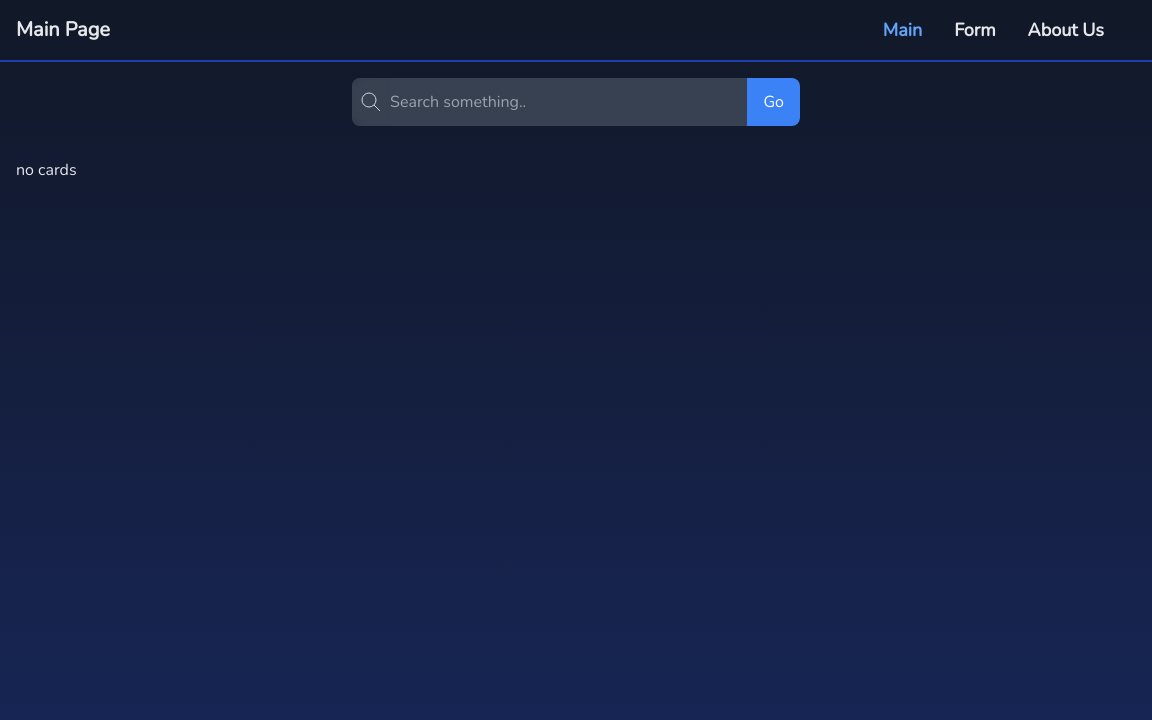
Test: App › should going to about page
This screenshot has width=1152, height=720.
Click the link "About Us": (1066, 30) [1028, 18, 1104, 42]
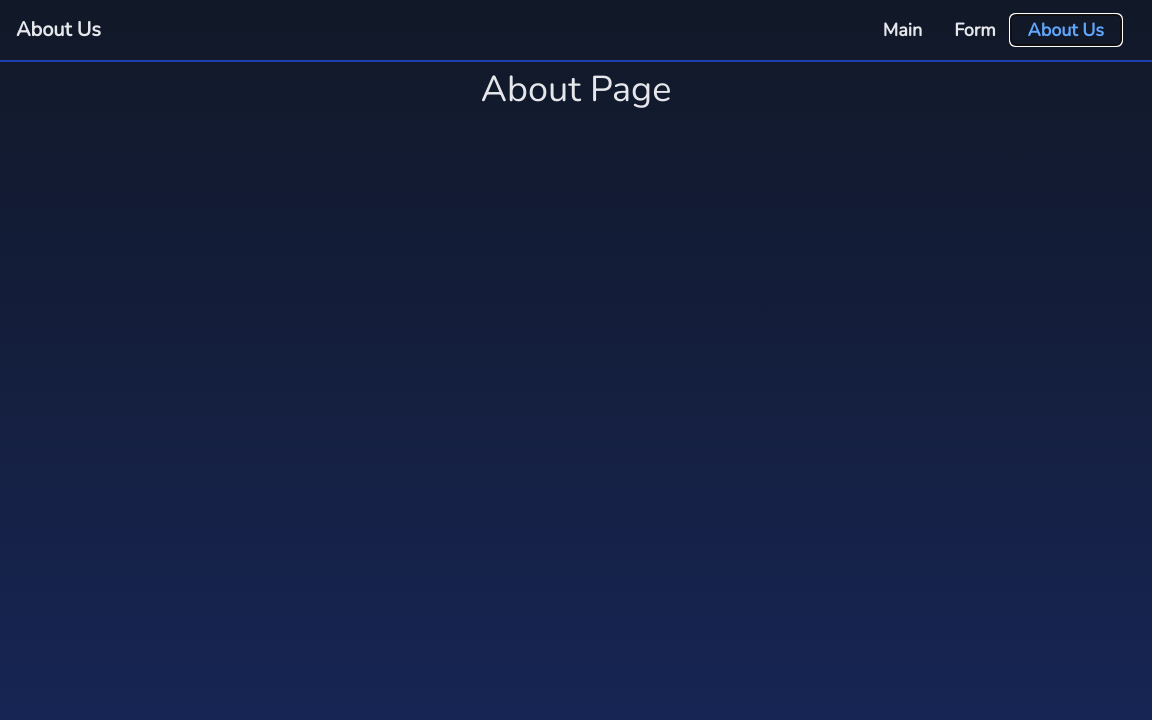
expect the heading shows "About": met, box [481, 65, 671, 114]
